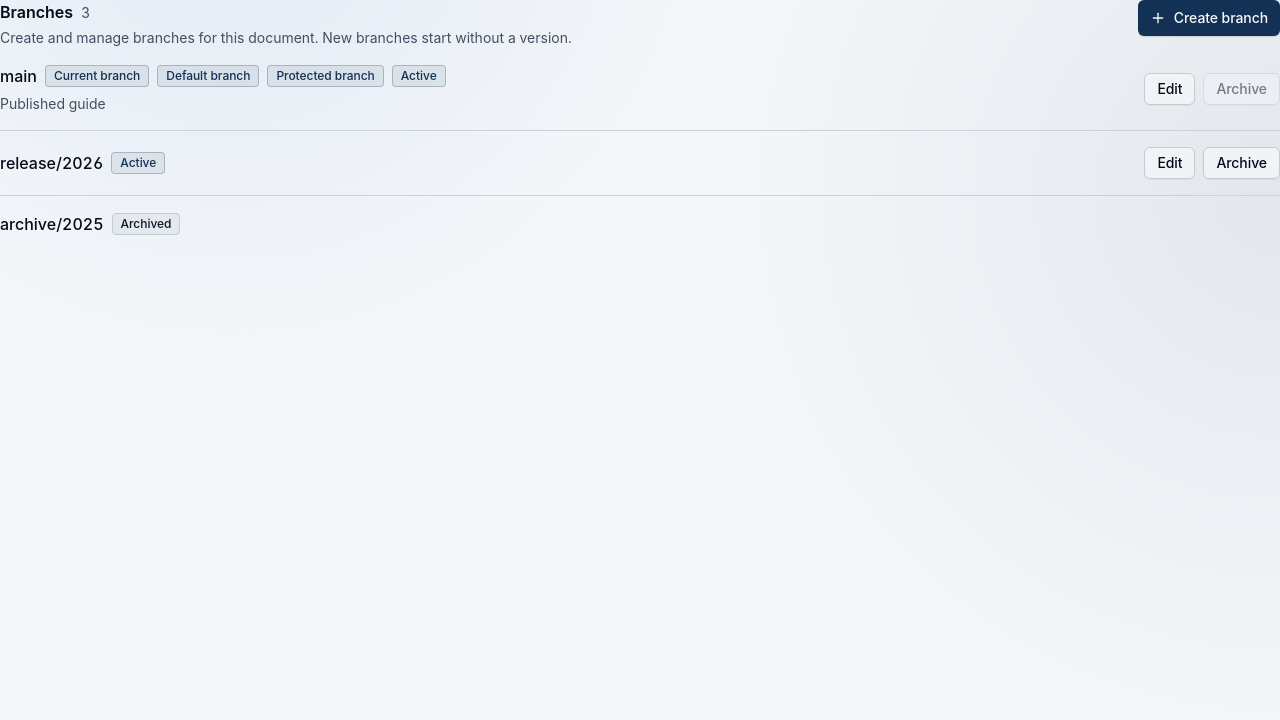
it: document branch management › retains edits after a failed save and saves default/protected changes on retry
Click the button "Edit" in the row of "release/2026": click(1170, 163) [1144, 147, 1196, 179]
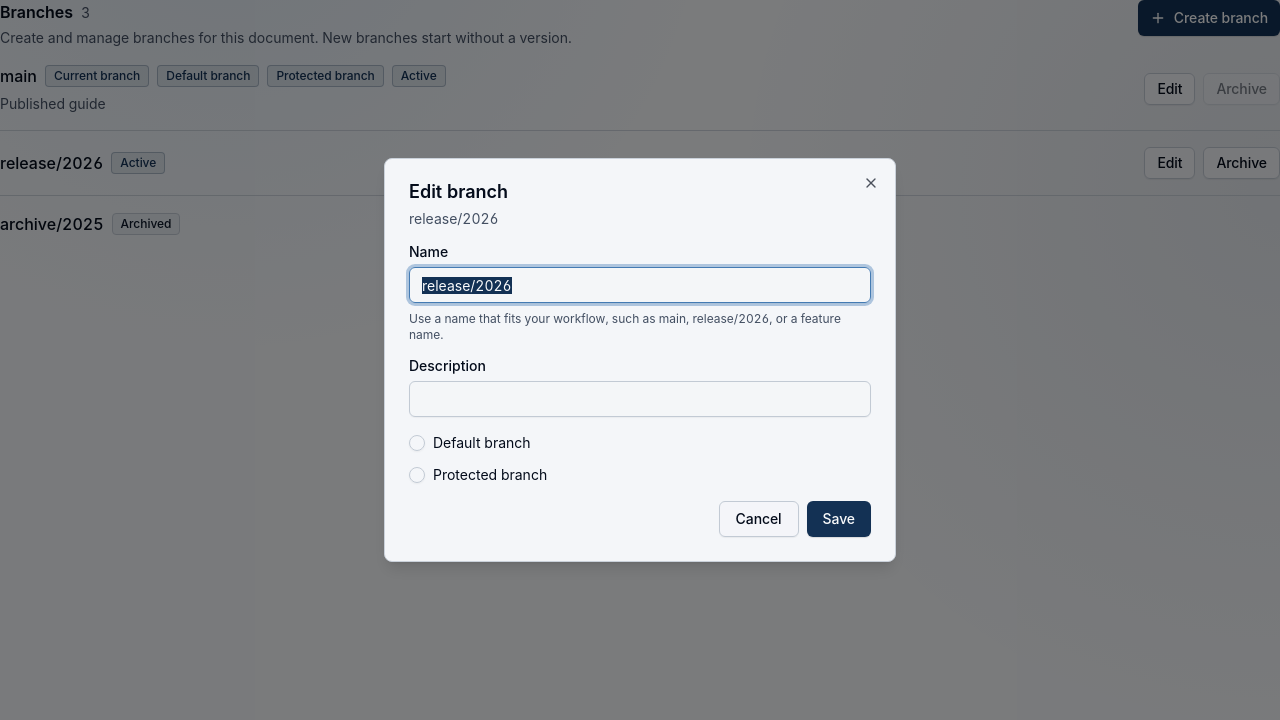
Replace the text in the field labelled "Name" with "release/candidate": (640, 285) [409, 267, 871, 303]
In the field labelled "Description": (640, 399) [409, 381, 871, 417], type "Candidate"
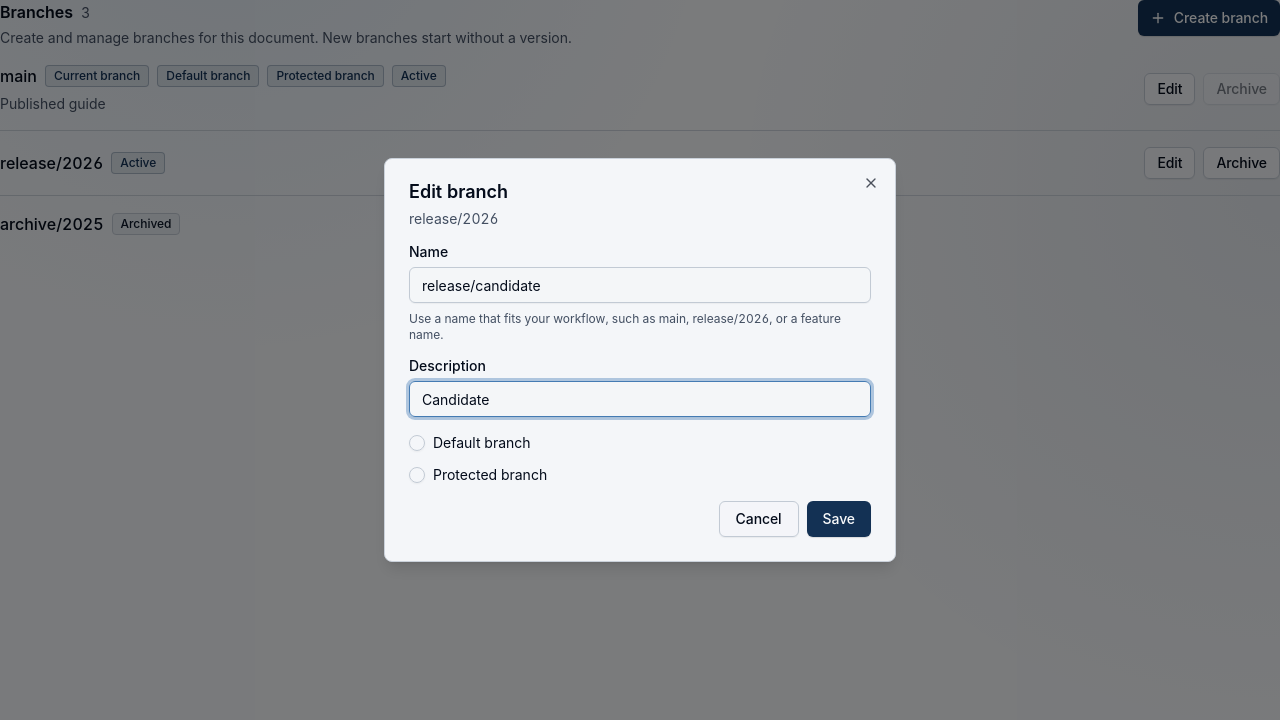
Click the 1st checkbox named "Default branch": click(417, 443) [409, 435, 425, 451]
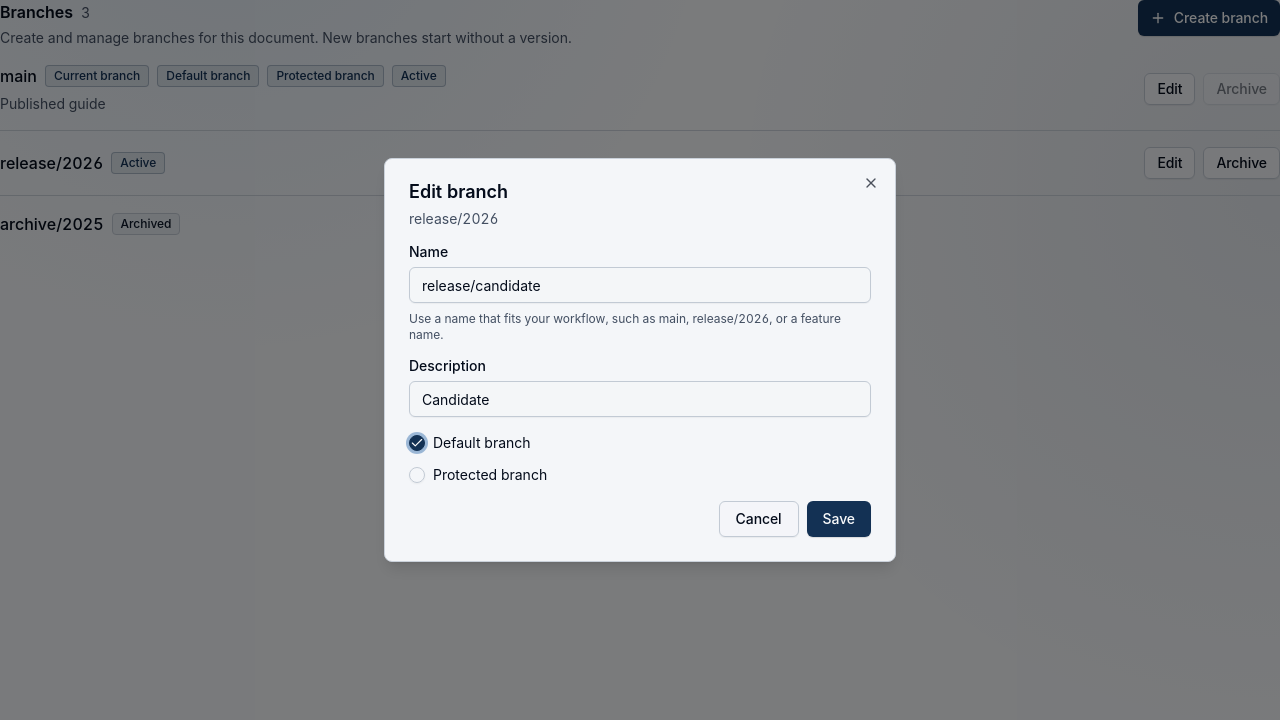
Click the 2nd checkbox named "Protected branch": click(417, 475) [409, 467, 425, 483]
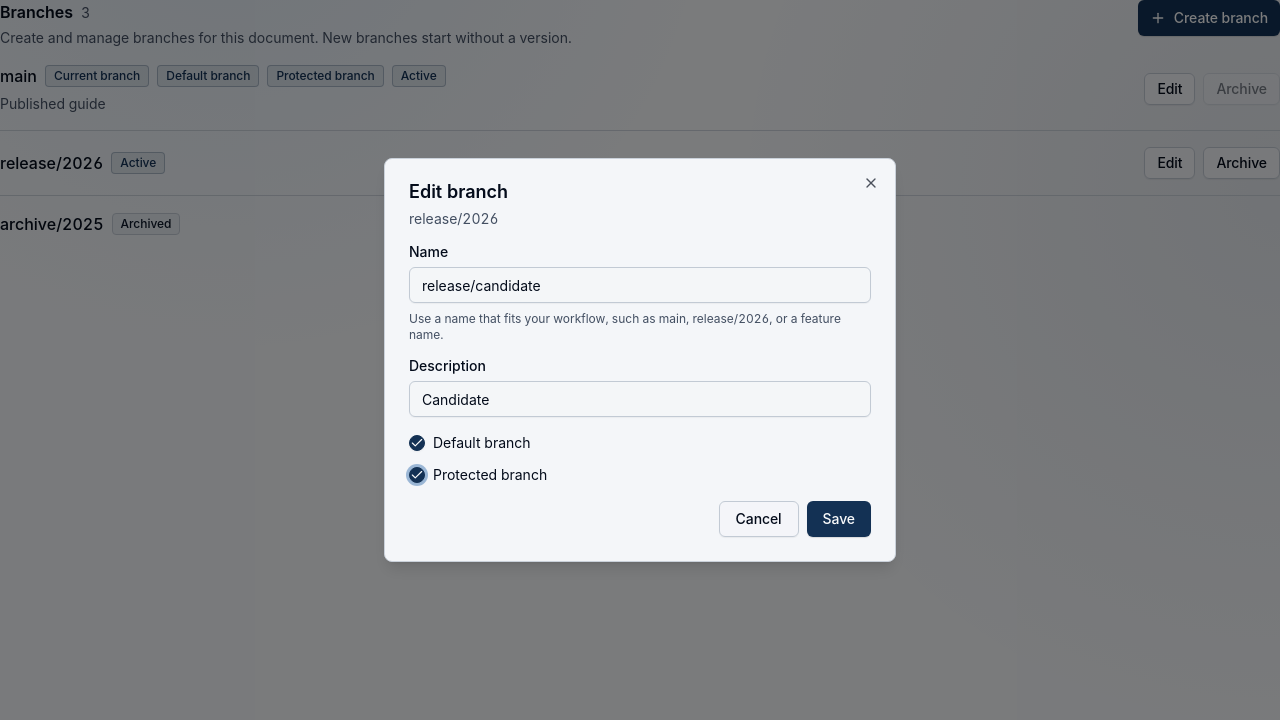
Click the button "Save": click(839, 519) [806, 501, 871, 537]
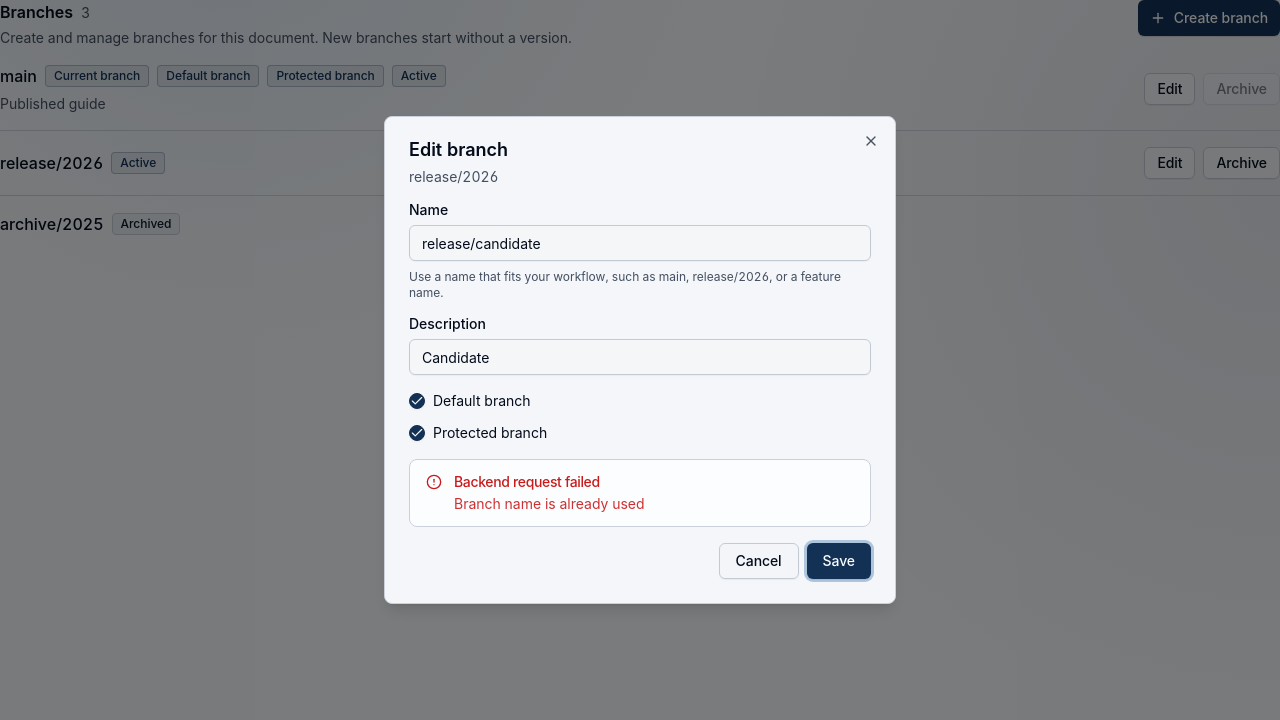
Expected: the text "Branch name is already used" is shown, [454, 495, 645, 512]
Click the button "Save": click(839, 561) [806, 543, 871, 579]
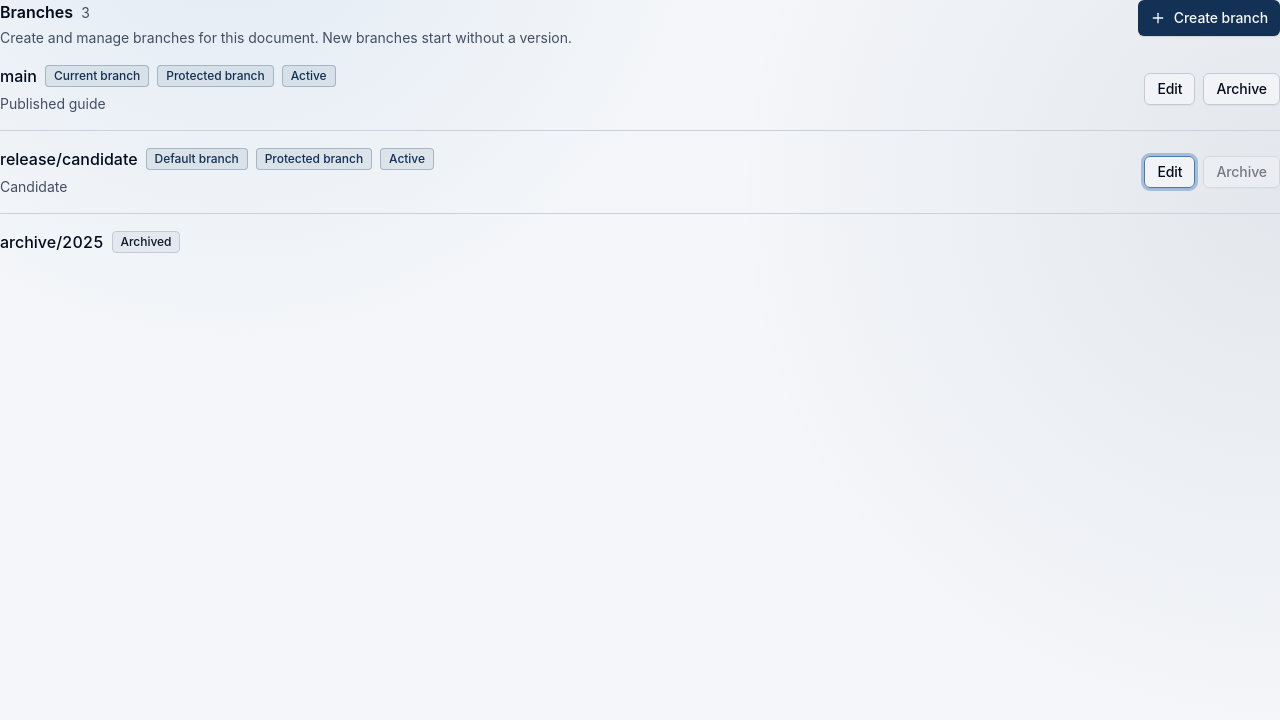
Expected: the text "Default branch" is shown, [146, 148, 248, 170]
Expected: the dialog is gone
